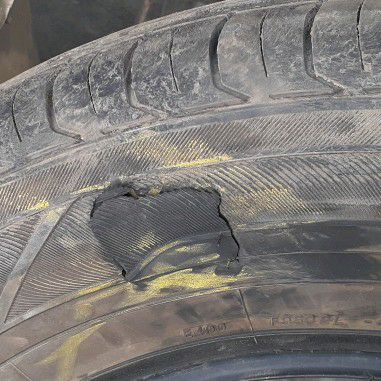cut: (89, 182, 242, 269)
